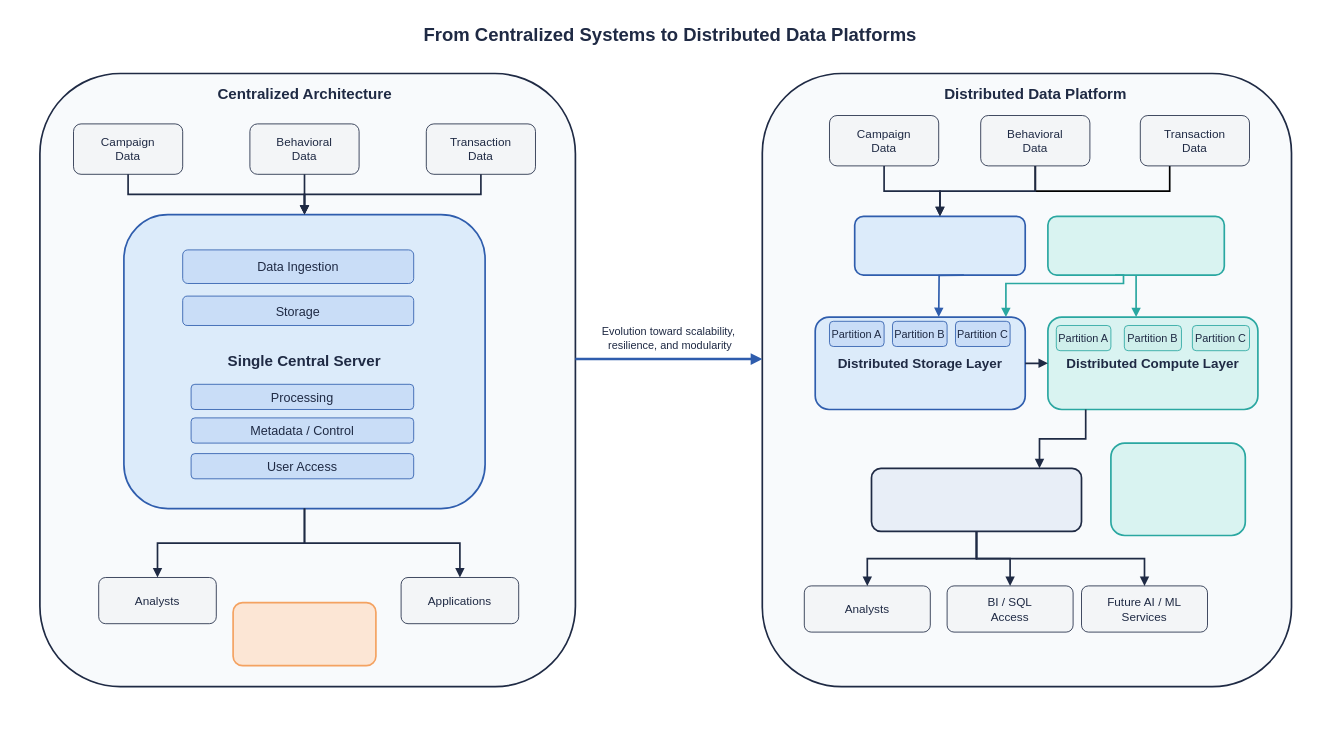
Some shapes in this 1339 by 734 pixel diagram are drawn without their labels. Each missing label, with the centre of its shape:
Analytics / Access Layer: point (976, 499)
Horizontal scaling Fault tolerance Separation of concerns Better reuse: point (1178, 489)
Ingestion Layer: point (939, 245)
Metadata Layer: point (1136, 245)
Single point of failure Limited scaling Resource contention: point (304, 633)
